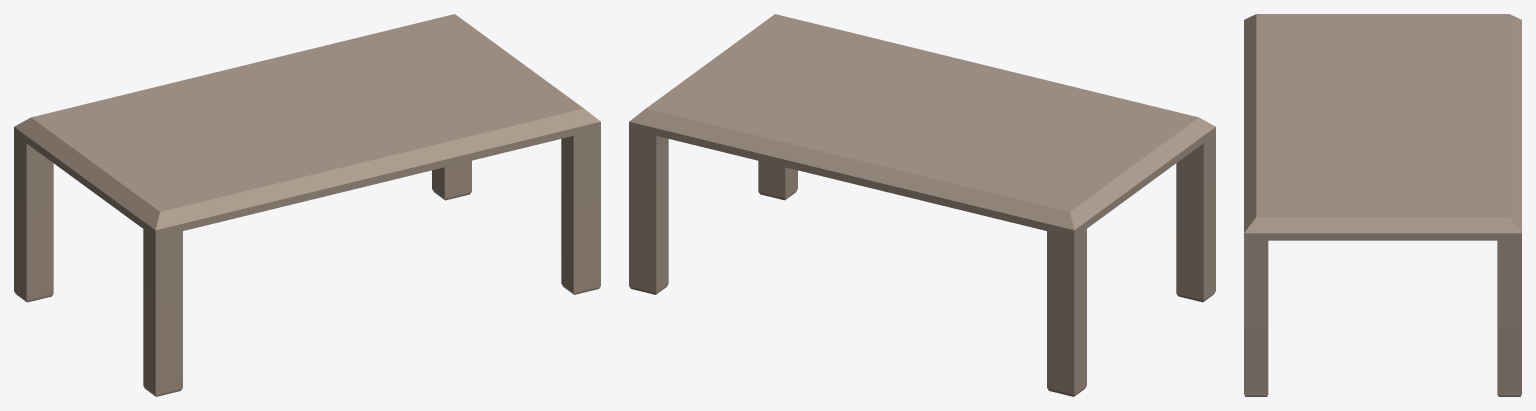
File: Table.fbx
The picture shows the model from 3 angles, left to right: view 1: azimuth 30°, elevation 25°; view 2: azimuth 150°, elevation 25°; view 3: azimuth 270°, elevation 25°; orthographic projection.
Visible parts, largest first — view 1: Table; view 2: Table; view 3: Table.
Boxes of the visible parts, x1,y1,x2,y2 form: Table: (14, 14, 600, 396); Table: (629, 14, 1215, 396); Table: (1244, 14, 1521, 396).
Size of the model in its own units: 121 by 46.89 by 66.8.
